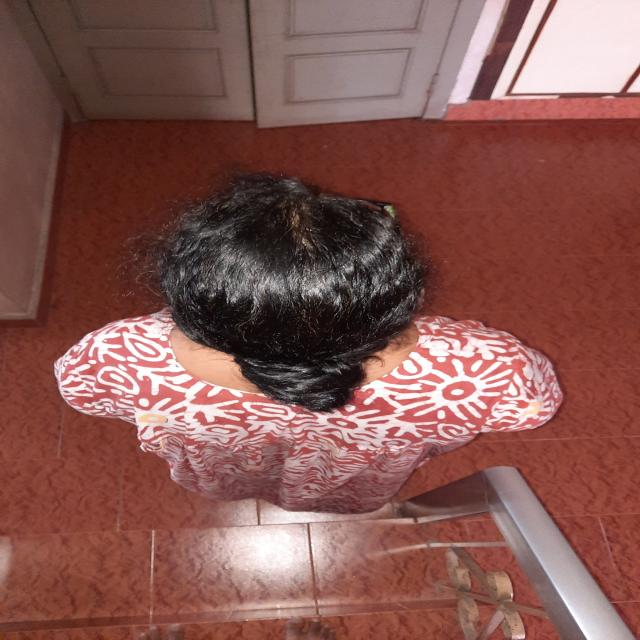humans: (44, 168, 574, 520)
